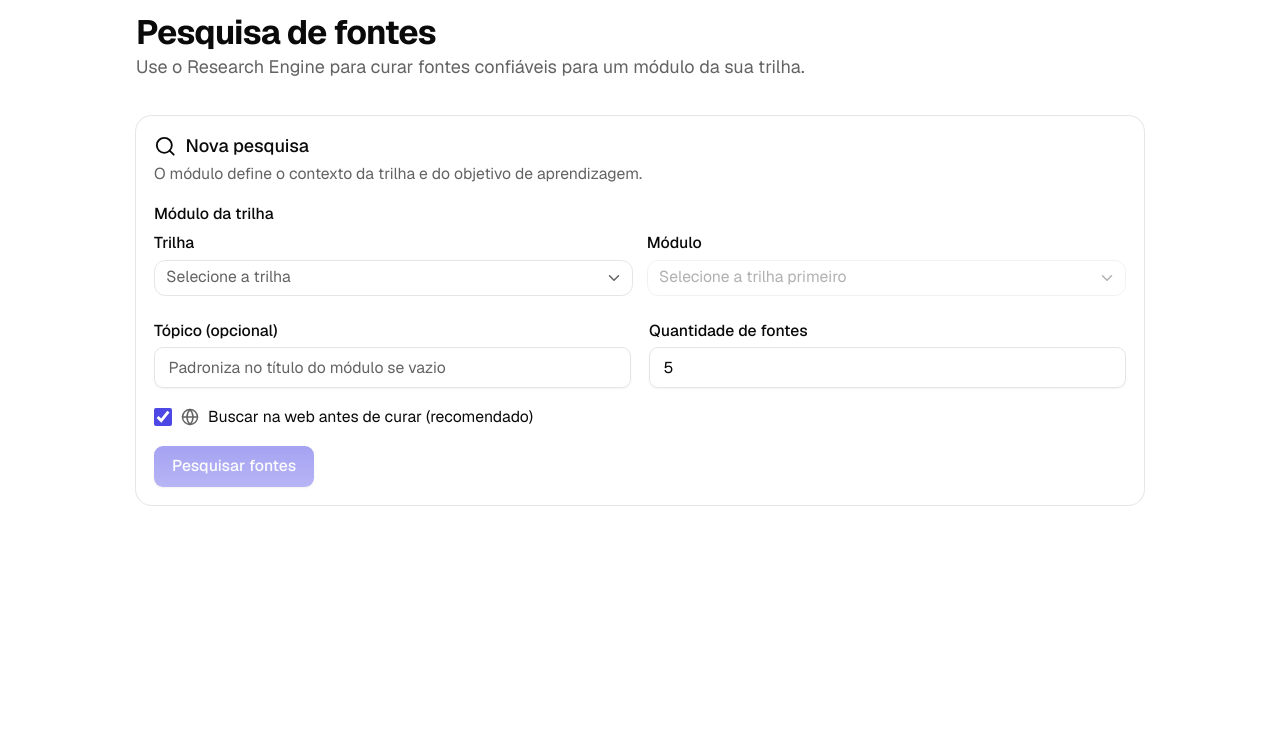
Test case: Página de Pesquisa › limpa o resultado anterior quando a nova pesquisa falha
This screenshot has width=1280, height=732.
Click the text "Selecione a trilha": (228, 277) [166,266,291,287]
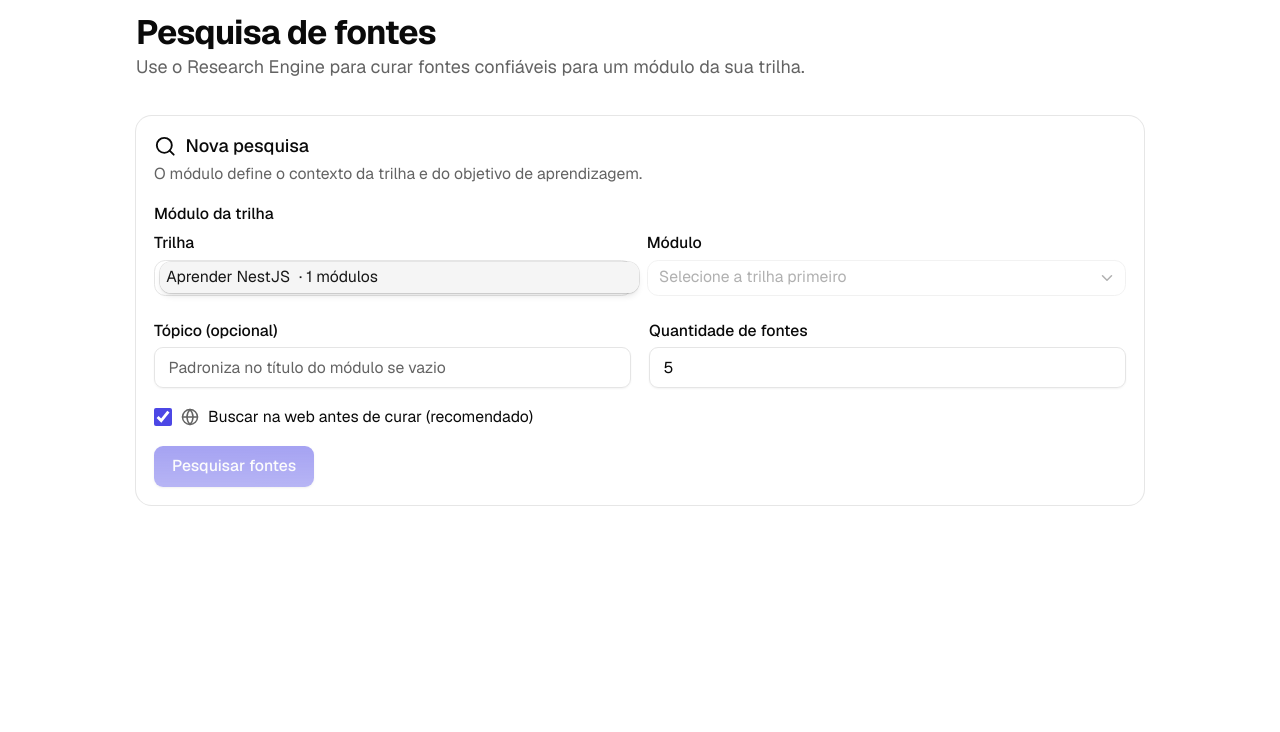
Click the option "Aprender NestJS · 1 módulos": (228, 277) [160,262,638,293]
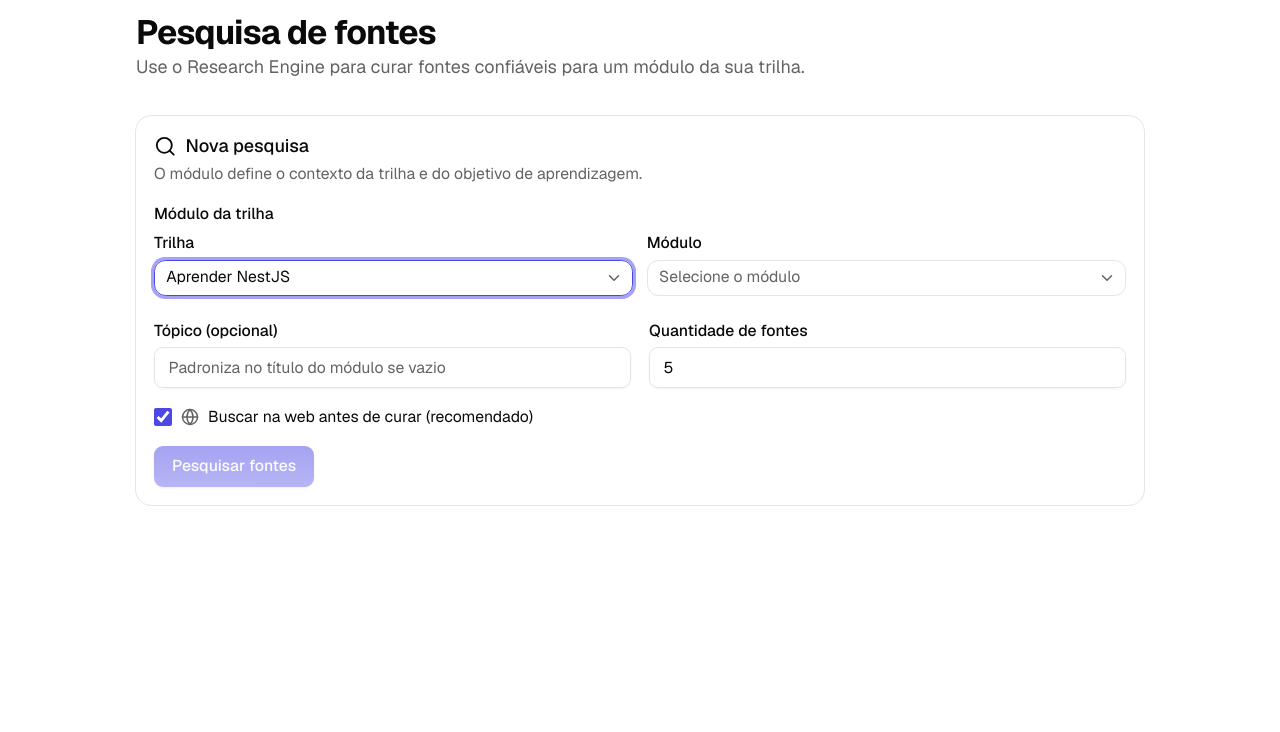
Click the text "Selecione o módulo": (730, 277) [659,266,800,287]
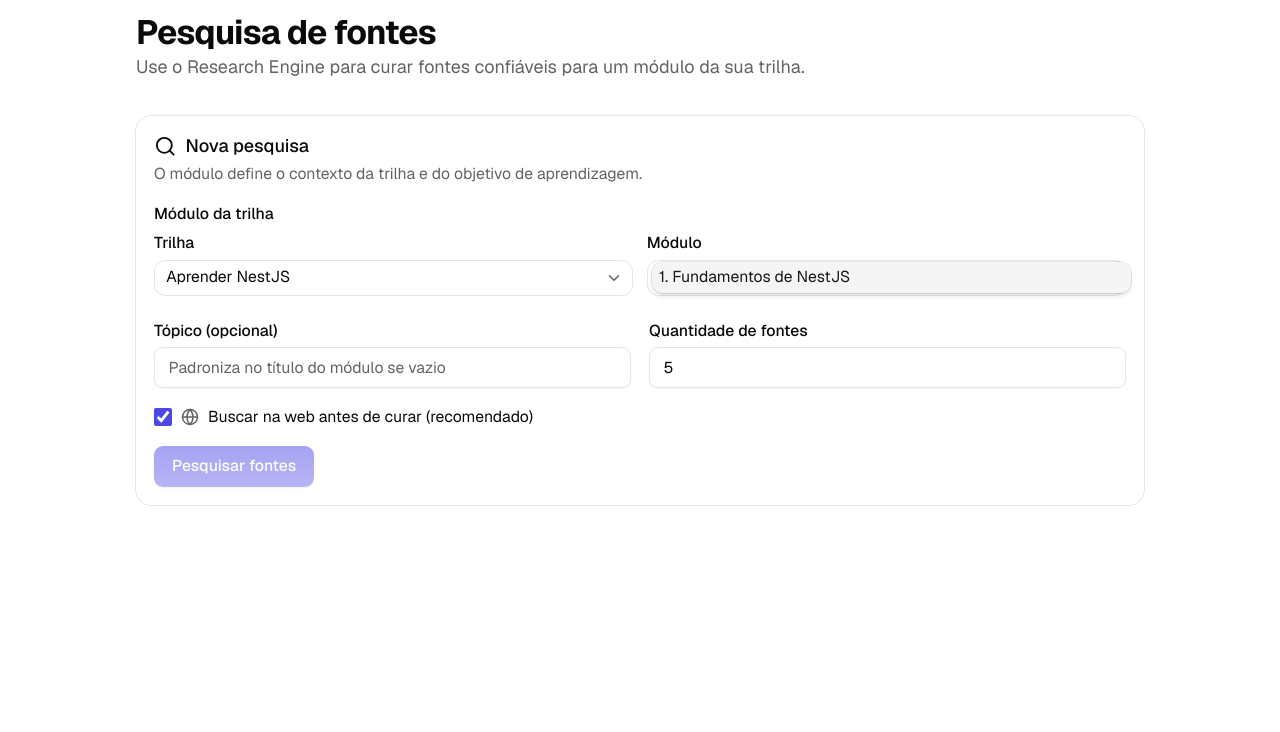
Click the option "1. Fundamentos de NestJS": (761, 277) [652,262,1131,293]
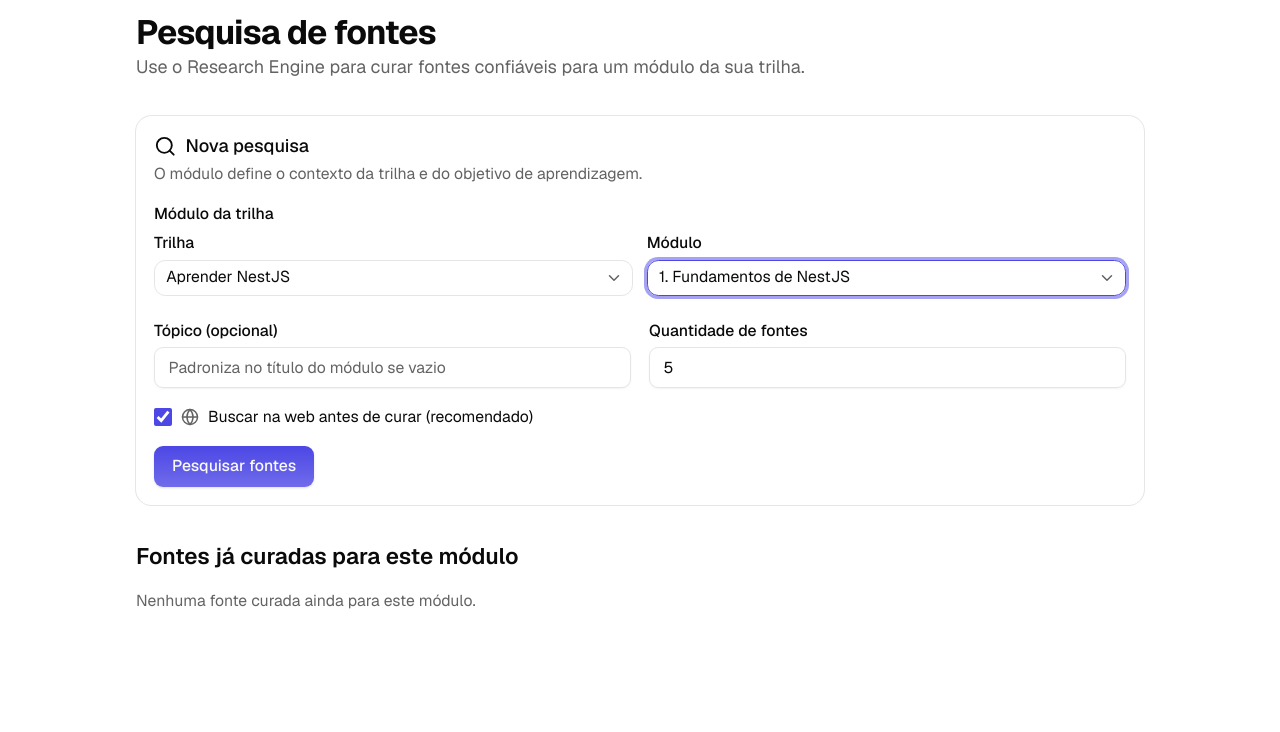
Click the button "Pesquisar fontes": (234, 467) [154,446,314,487]
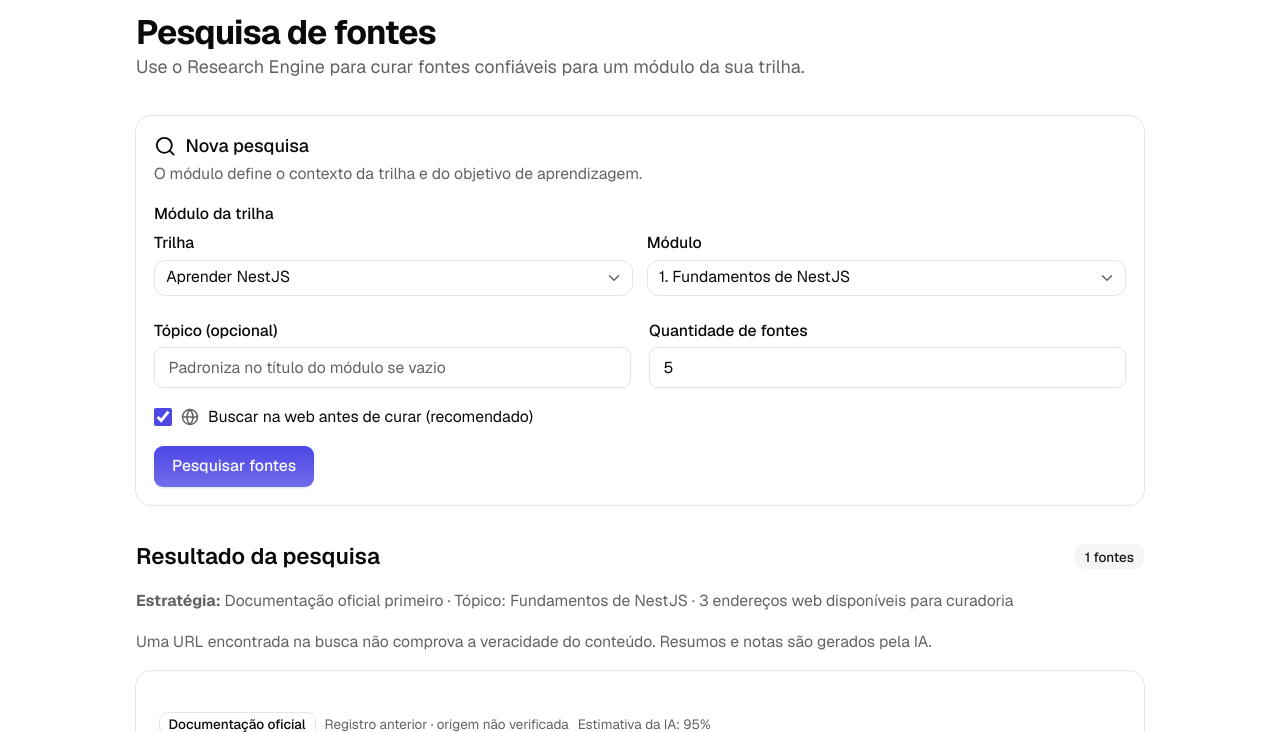
Result: the heading "Resultado da pesquisa" is shown at [136,541,380,572]
In the field labelled "Tópico (opcional)": (392, 368) [154,347,631,388], type "Providers"
Click the button "Pesquisar fontes": (234, 467) [154,446,314,487]
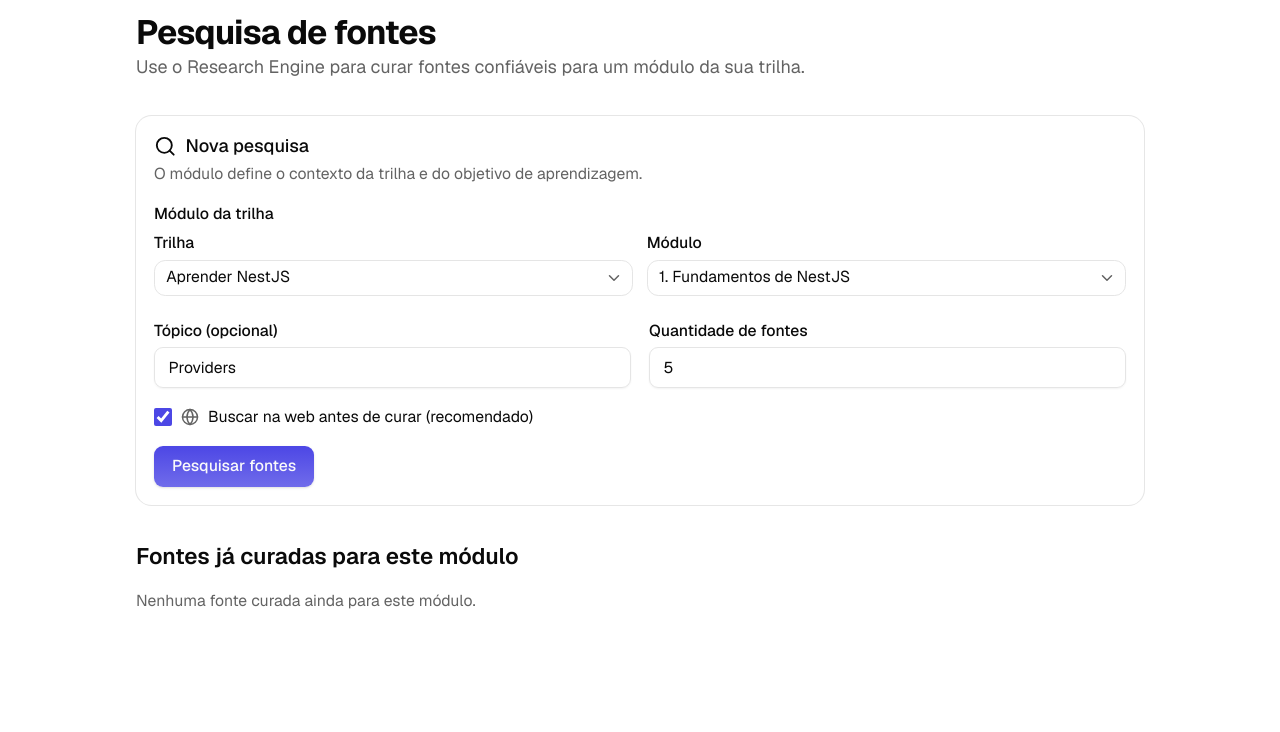
Result: the heading "Resultado da pesquisa" is gone
